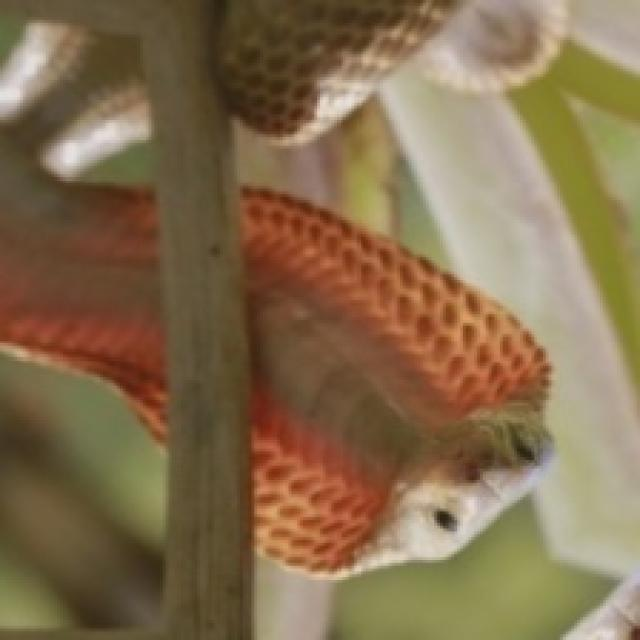philippine cobra: (243, 189, 549, 574), (0, 140, 163, 431), (223, 3, 443, 131)
